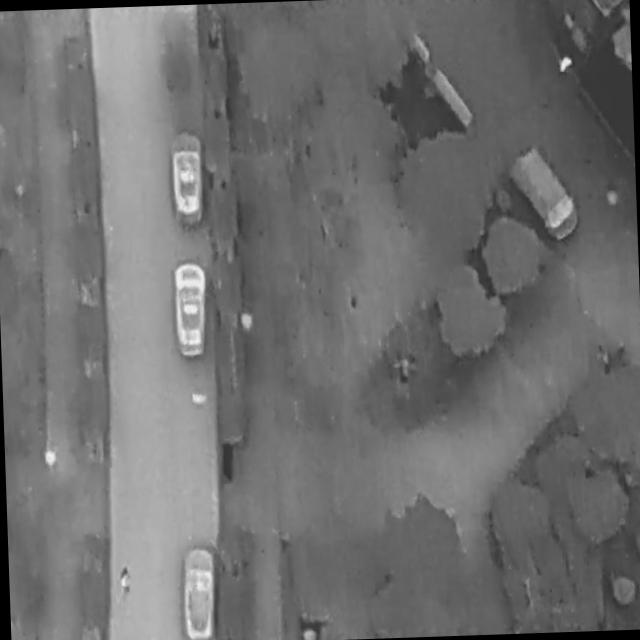person: (560, 53, 574, 77)
